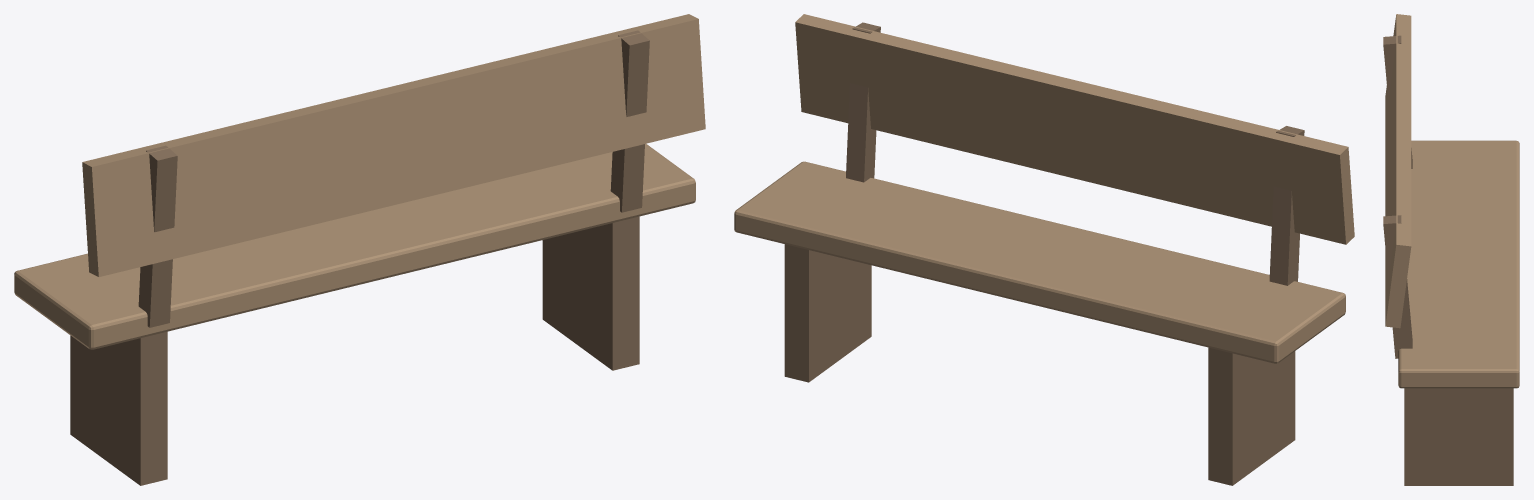
The model's file is bench.glb.
3 views of the same model, side by side, from view 1: azimuth 30°, elevation 25°; view 2: azimuth 150°, elevation 25°; view 3: azimuth 270°, elevation 25° (orthographic). The views are drawn at different scales.
Parts seen in each view (by area): view 1: bench; view 2: bench; view 3: bench.
Part boxes in pixels (x1=…): bench: x1=14, y1=14, x2=705, y2=485; bench: x1=734, y1=14, x2=1354, y2=485; bench: x1=1383, y1=14, x2=1519, y2=485.
Bounding box in the file's own units: 1.8 × 0.9524 × 0.4498.
